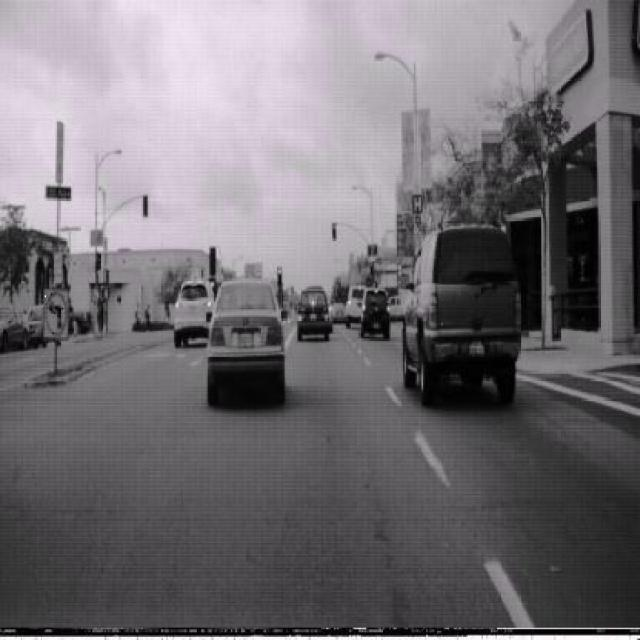noLeftTurn: (43, 286, 69, 340)
